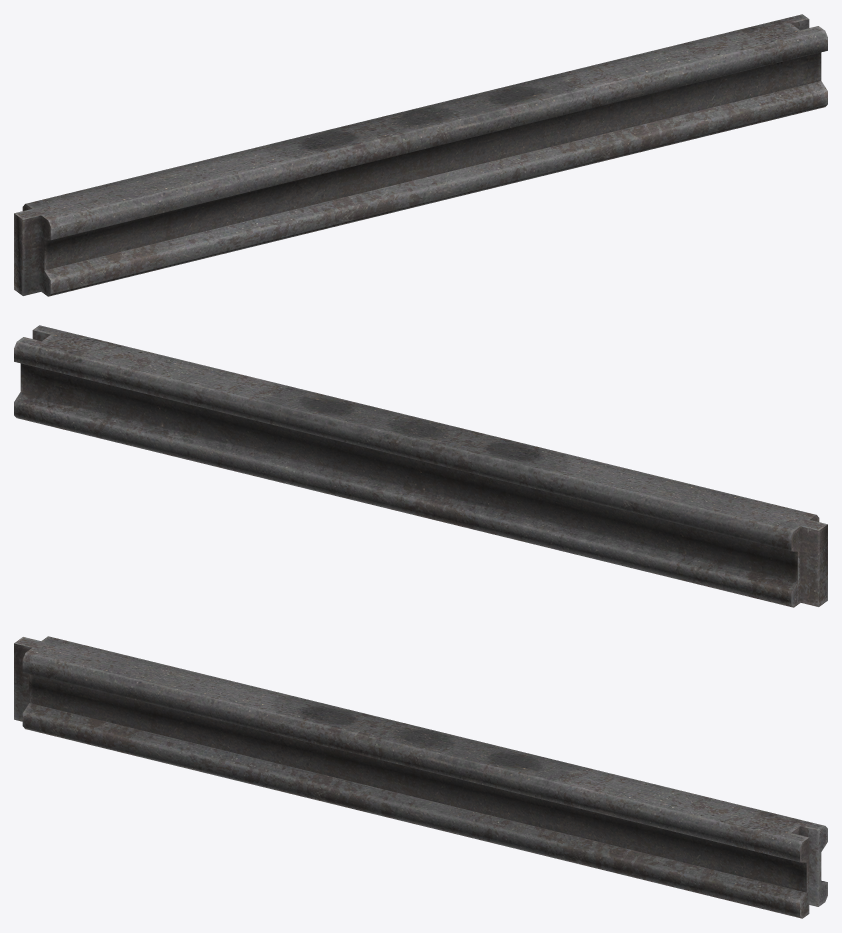
Rendered from ceiling_rail_track_straight_nosuport.dae.
3 renders of one model, top to bottom at view 1: azimuth 30°, elevation 25°; view 2: azimuth 150°, elevation 25°; view 3: azimuth 330°, elevation 25°, orthographic.
Parts seen in each view (by area): view 1: straight_nosupport; view 2: straight_nosupport; view 3: straight_nosupport.
Part boxes in pixels (bbox=[...]): straight_nosupport: bbox=[14, 14, 827, 296]; straight_nosupport: bbox=[14, 325, 827, 607]; straight_nosupport: bbox=[14, 636, 827, 918].
Size of the model in its own units: 2.05 by 0.1875 by 0.125.
